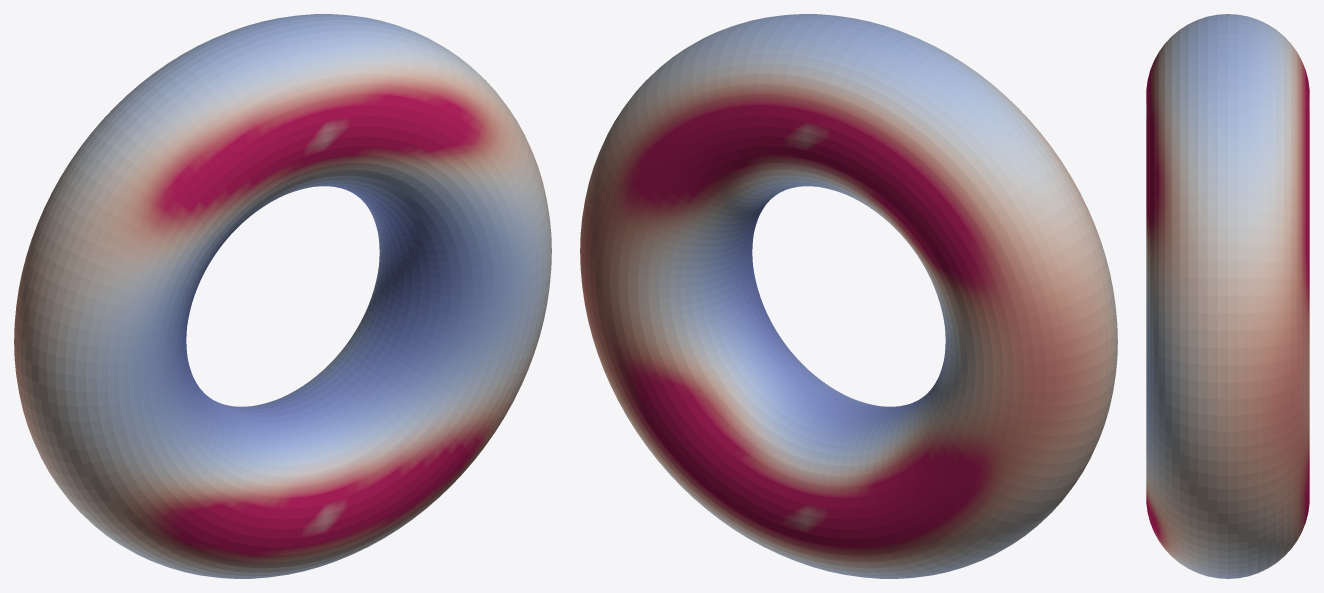
3 renders of one model, left to right at view 1: azimuth 30°, elevation 25°; view 2: azimuth 150°, elevation 25°; view 3: azimuth 270°, elevation 25°, orthographic. The views are drawn at different scales.
Parts seen in each view (by area): view 1: world; view 2: world; view 3: world.
Boxes of the visible parts, x1,y1,x2,y2 form: world: [14, 14, 551, 578]; world: [580, 14, 1117, 578]; world: [1146, 14, 1309, 578].
Size of the model in its own units: 22.53 by 22.53 by 6.52.
